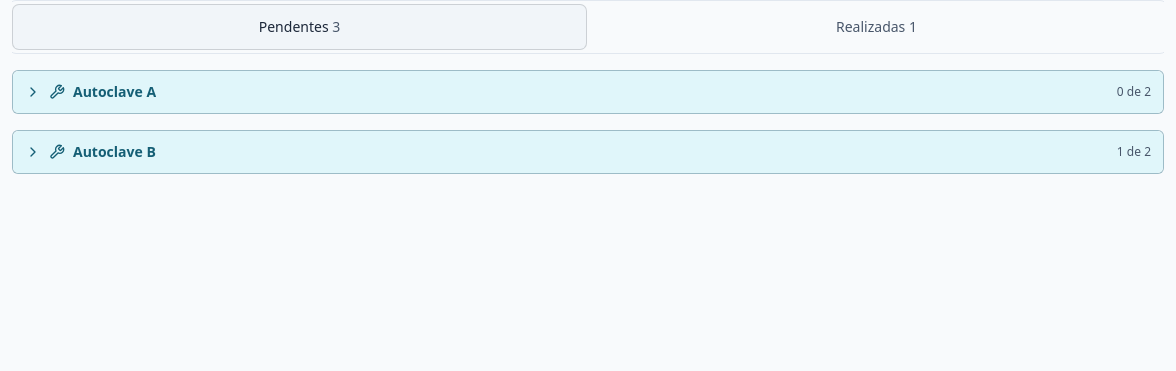
Test: ColetaList › tocar no cabeçalho abre e fecha o grupo
Click the button "Autoclave A 0 de 2" at (588, 92), box 12,70 -> 1164,114
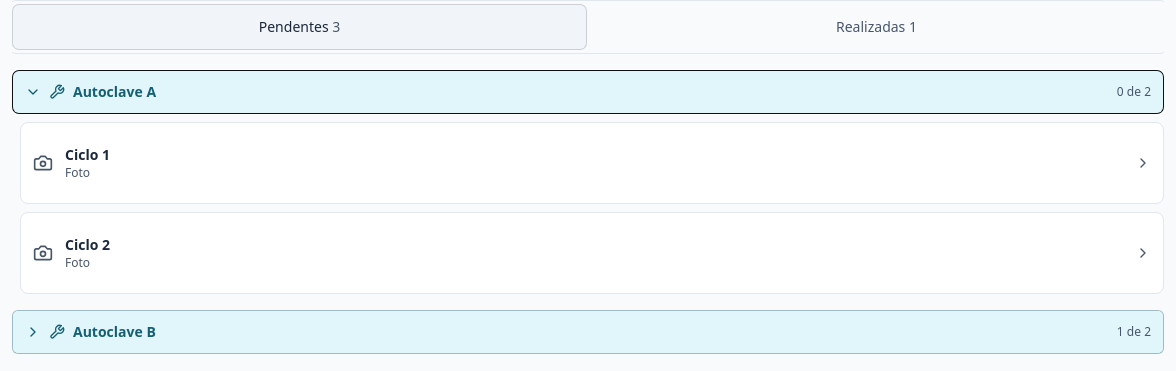
Check: the button "Autoclave A 0 de 2" is expanded
Check: the text "Ciclo 1" is shown, box 65,145 -> 110,165
Click the button "Autoclave A 0 de 2" at (588, 92), box 12,70 -> 1164,114
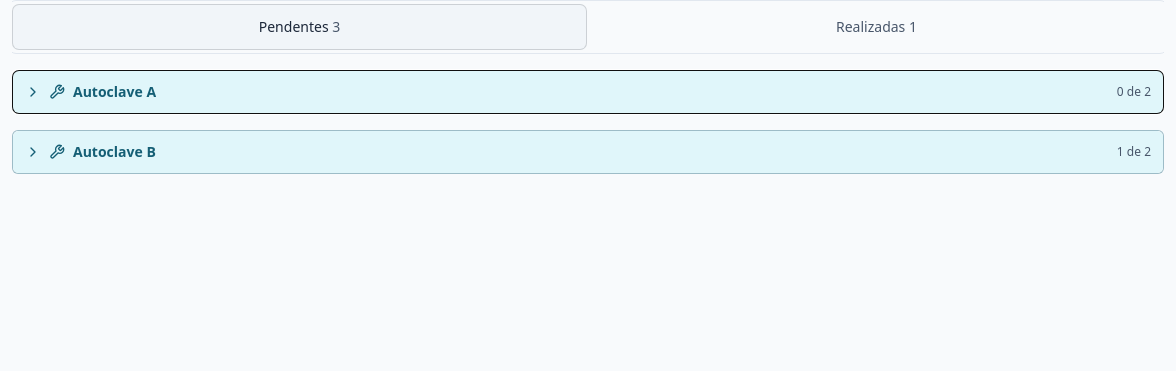
Check: the button "Autoclave A 0 de 2" is collapsed, box 12,70 -> 1164,114
Check: the link "Ciclo 1" is gone
